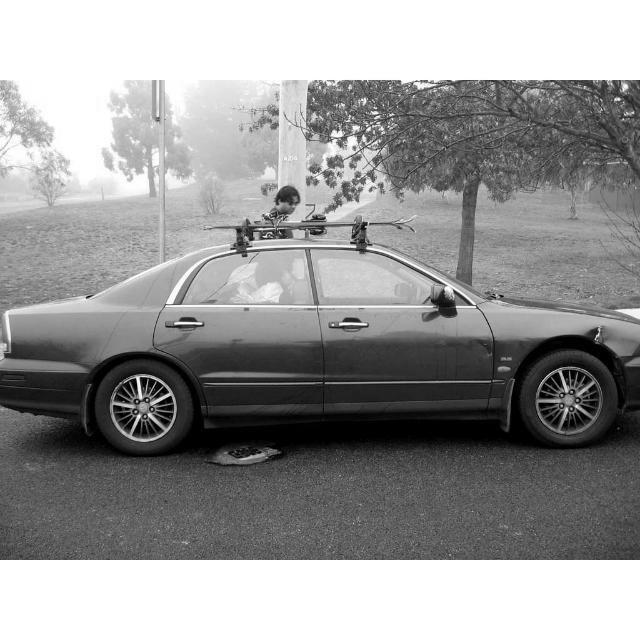fender-dent: (492, 306, 636, 358)
